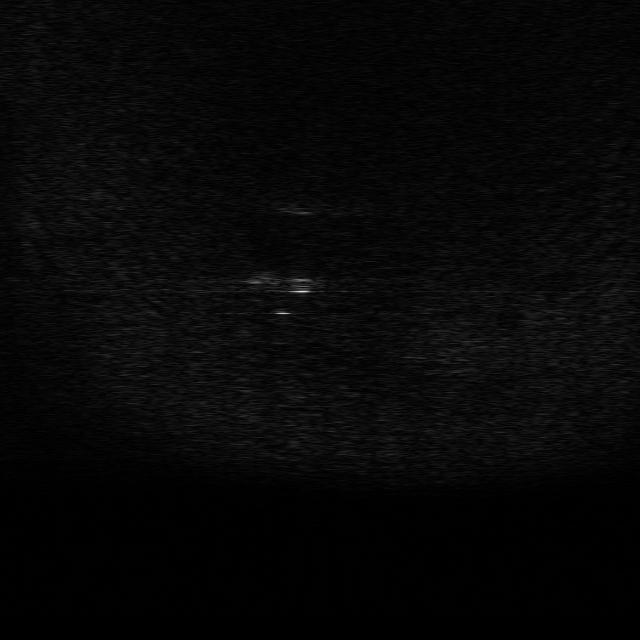plane: (242, 264, 322, 300)
